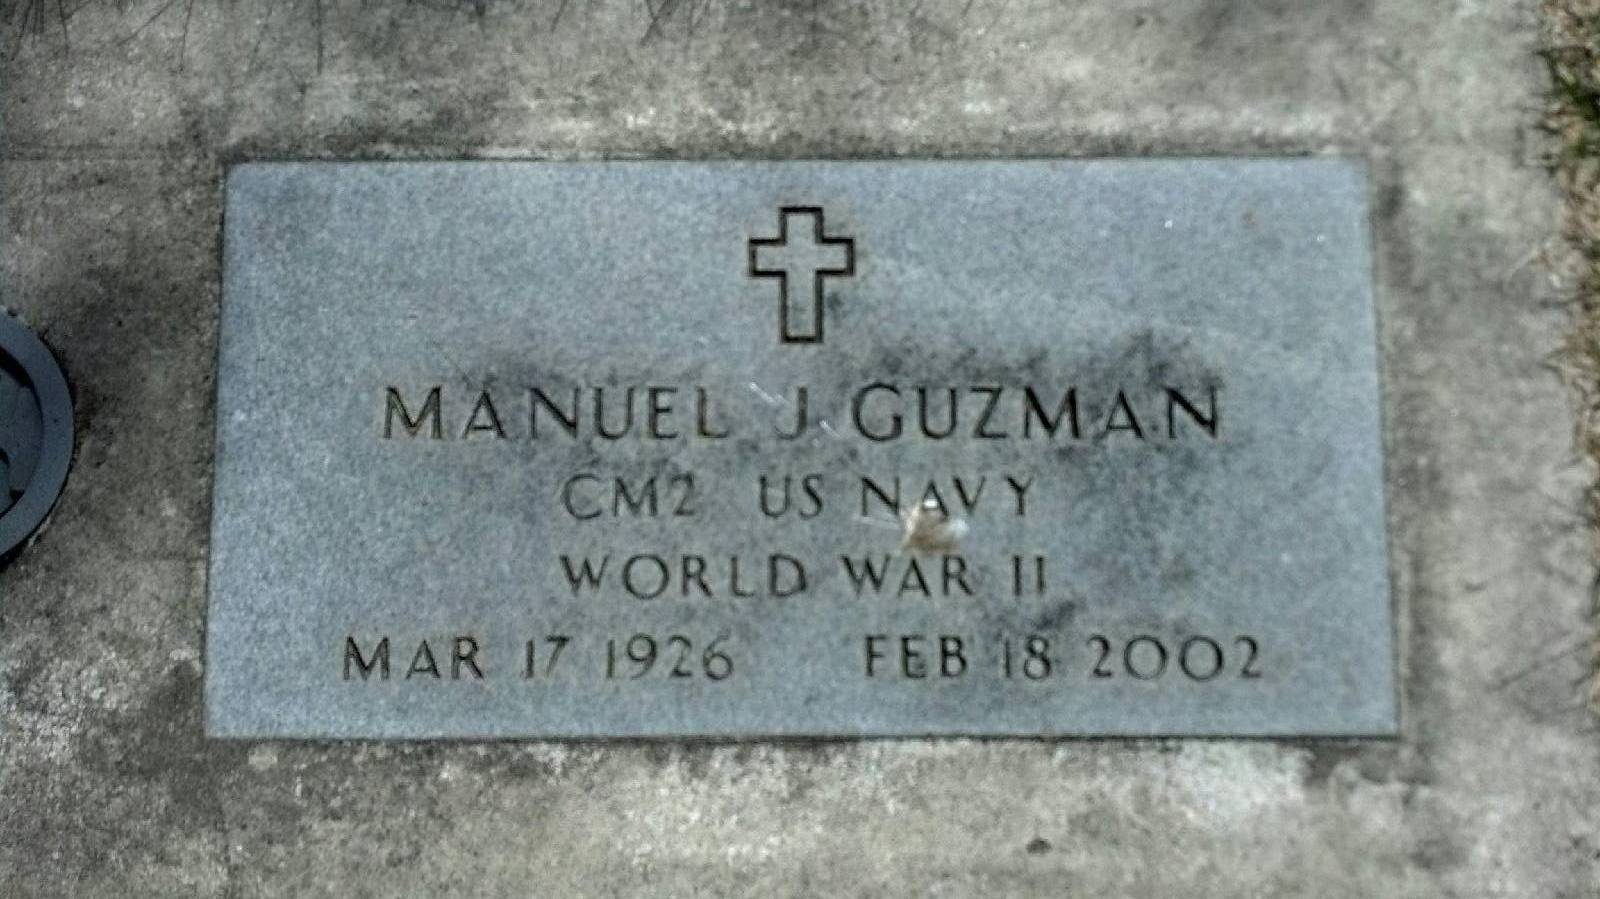military: (208, 155, 1404, 744)
